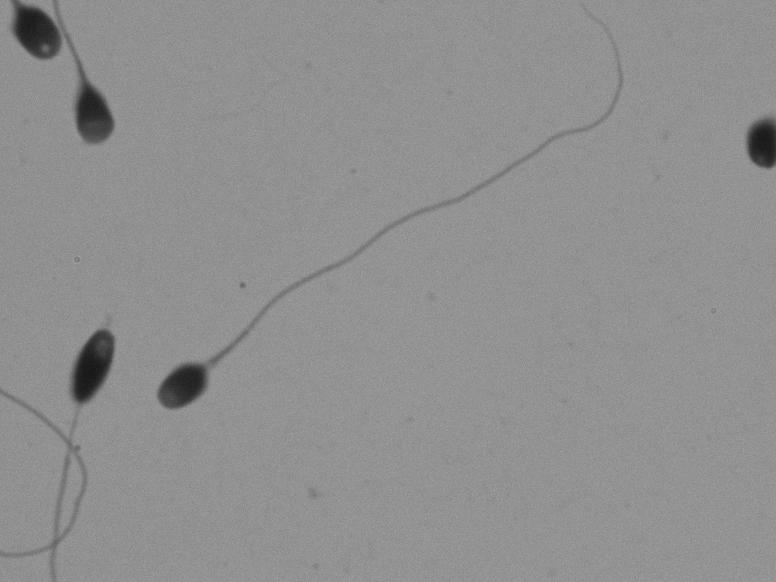Abnormal: (45, 263, 139, 501)
Normal: (132, 54, 654, 463)
